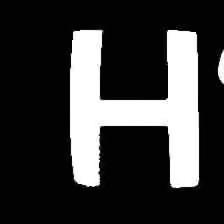LTR_H: (49, 9, 208, 199)
